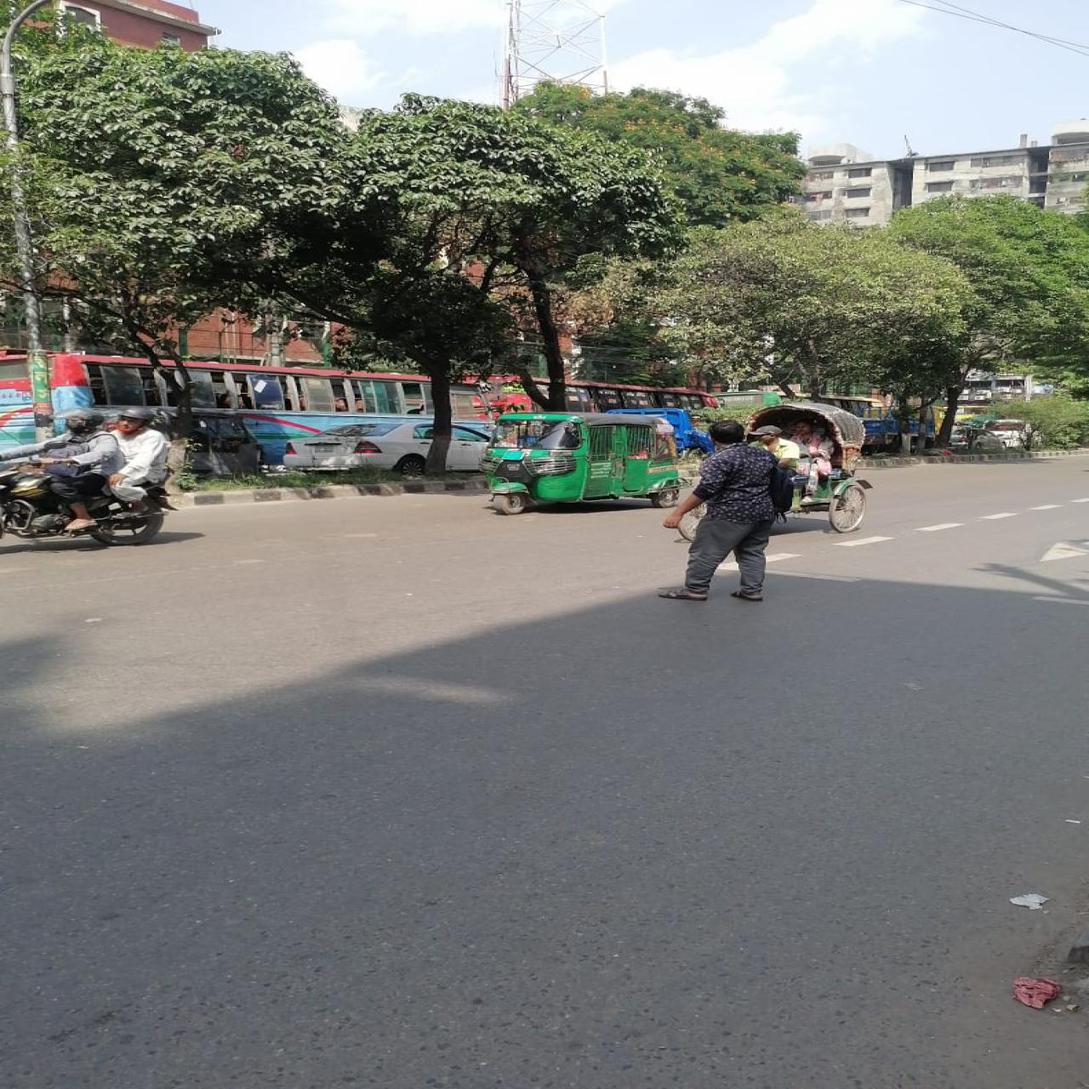person: (660, 419, 792, 603)
